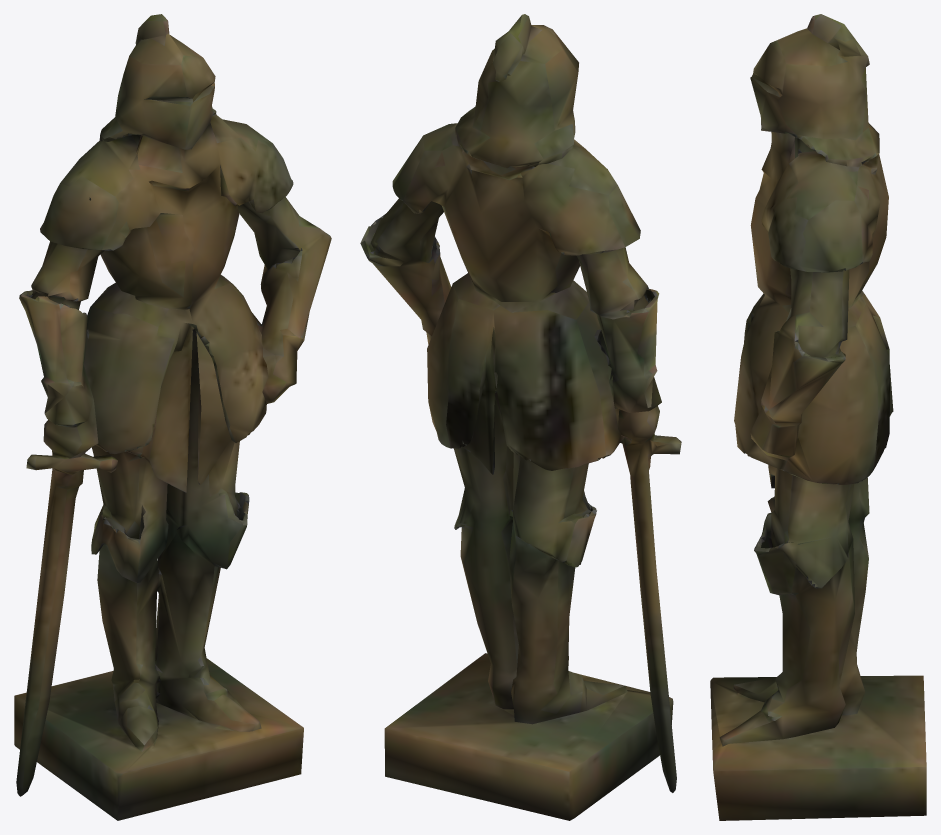
File: worn-bronze-suit-of-armour-v001.glb
The picture shows the model from 3 angles, left to right: view 1: azimuth 30°, elevation 25°; view 2: azimuth 150°, elevation 25°; view 3: azimuth 270°, elevation 25°; orthographic projection. The views are drawn at different scales.
Parts seen in each view (by area): view 1: worn-bronze-suit-of-armour; view 2: worn-bronze-suit-of-armour; view 3: worn-bronze-suit-of-armour.
Boxes of the visible parts, x1,y1,x2,y2 form: worn-bronze-suit-of-armour: [14, 14, 331, 820]; worn-bronze-suit-of-armour: [360, 14, 681, 820]; worn-bronze-suit-of-armour: [710, 14, 926, 820].
Size of the model in its own units: 0.8217 by 1.88 by 0.4847.
Materials: 1 (1 with a texture image).
